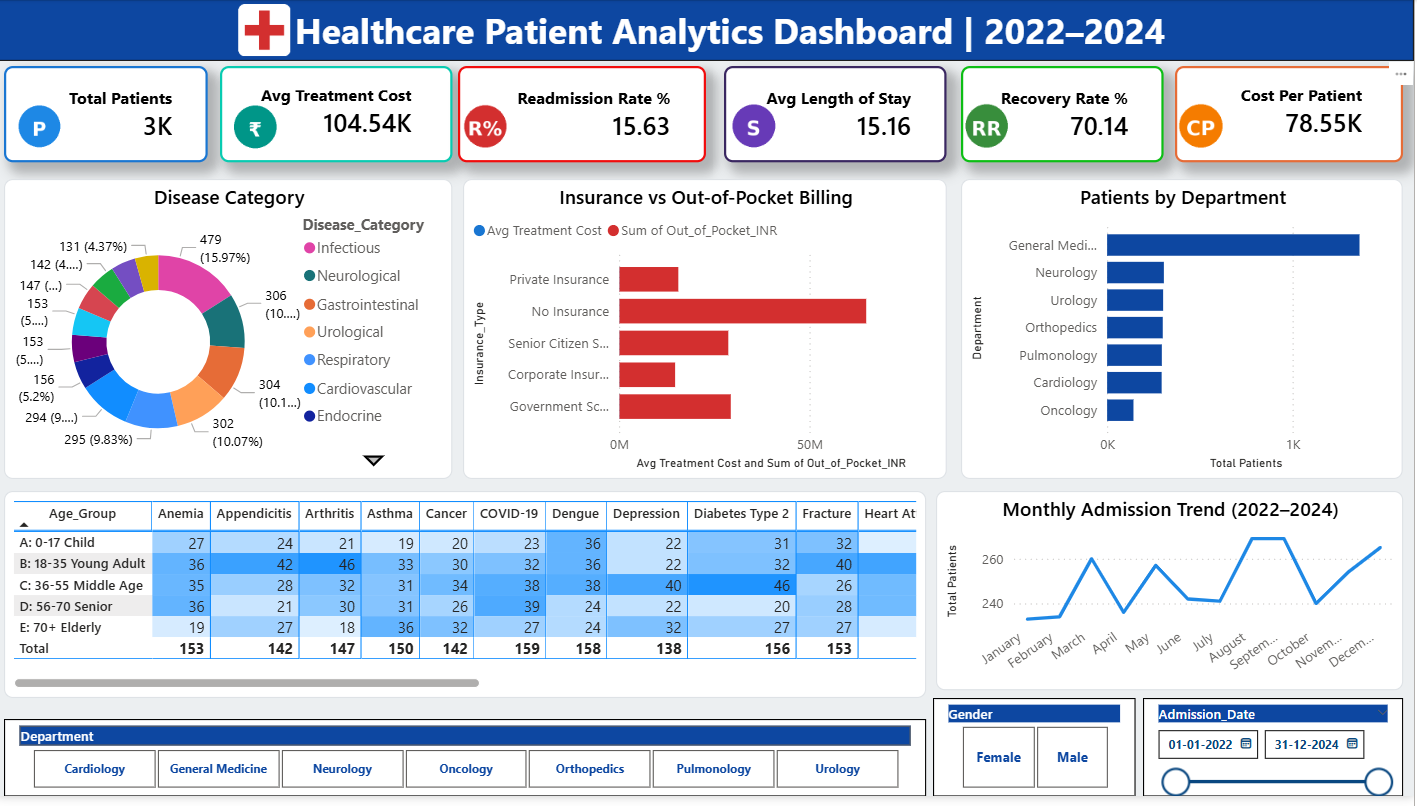

Layout of this report page (visuals, bound fields, positions):
{"tool":"powerbi","page":{"name":"KPI Overview","canvas":[1280,720],"ordinal":0},"visuals":[{"type":"cardVisual","fields":{"Data":["Patient_Raw_Data.Total Patients"]},"box":[6.3,60.5,184.3,86.7],"z":0},{"type":"cardVisual","fields":{"Data":["Patient_Raw_Data.Avg Treatment Cost"]},"box":[201.4,60.5,209.6,86.7],"z":1000},{"type":"cardVisual","fields":{"Data":["Patient_Raw_Data.Readmission Rate %"]},"box":[416.4,60.5,224,86.7],"z":2000},{"type":"cardVisual","fields":{"Data":["Patient_Raw_Data.Avg Length of Stay"]},"box":[656.7,60.5,201.4,86.7],"z":3000},{"type":"cardVisual","fields":{"Data":["Patient_Raw_Data.Recovery Rate %"]},"box":[870.8,60.5,183.4,86.7],"z":4000},{"type":"cardVisual","fields":{"Data":["Patient_Raw_Data.Cost Per Patient"]},"box":[1064.1,60.5,206,86.7],"z":5000},{"type":"textbox","box":[0,0,1280,56],"z":6000},{"type":"lineChart","title":"Monthly Admission Trend (2022–2024)","fields":{"Category":["Patient_Raw_Data.Admission_Date.Variation.Date Hierarchy.Month"],"Y":["Patient_Raw_Data.Total Patients"]},"box":[848.2,444.4,421.8,179.8],"z":7000},{"type":"donutChart","title":"Disease Category","fields":{"Category":["Patient_Raw_Data.Disease_Category"],"Y":["Patient_Raw_Data.Total Patients"]},"box":[6.3,162.6,404.7,271],"z":8000},{"type":"clusteredBarChart","title":"Patients by Department","fields":{"Y":["Patient_Raw_Data.Total Patients"],"Category":["Patient_Raw_Data.Department"]},"box":[870.8,162.6,399.3,271],"z":9000},{"type":"pivotTable","fields":{"Columns":["Patient_Raw_Data.Diagnosis"],"Values":["Patient_Raw_Data.Total Patients"],"Rows":["Patient_Raw_Data.Age_Group"]},"box":[6.3,444.4,832.9,187],"z":10000},{"type":"barChart","title":"Insurance vs Out-of-Pocket Billing","fields":{"Category":["Patient_Raw_Data.Insurance_Type"],"Y":["Patient_Raw_Data.Avg Treatment Cost","Sum(Patient_Raw_Data.Out_of_Pocket_INR)"]},"box":[420.9,162.6,437.2,271],"z":11000},{"type":"slicer","fields":{"Values":["Patient_Raw_Data.Department"]},"box":[6.3,650.4,832.9,69.6],"z":12000},{"type":"slicer","fields":{"Values":["Patient_Raw_Data.Gender"]},"box":[845.5,631.4,183.4,88.5],"z":13000},{"type":"slicer","fields":{"Values":["Patient_Raw_Data.Admission_Date"]},"box":[1035.2,631.4,234.9,88.5],"z":14000},{"type":"image","box":[420.9,94.8,39.7,39.7],"z":16000},{"type":"image","box":[870.8,93.9,46.1,40.6],"z":17000},{"type":"image","box":[1066.8,93.9,41.6,40.6],"z":18000},{"type":"image","box":[208.7,94.8,48.8,40.6],"z":20000},{"type":"image","box":[663,93.9,41.6,40.6],"z":21000},{"type":"image","box":[17.2,94.8,42.5,39.7],"z":21001},{"type":"image","box":[215.9,4.5,50.6,47],"z":21002}]}

Visuals, with their boxes in screenshot pixels (x1, y1, x2, y2), scaled from the page's 1280x720 canvas onto the 1417x806 screenshot:
cardVisual - Patient_Raw_Data.Total Patients: bbox=(7, 68, 211, 165)
cardVisual - Patient_Raw_Data.Avg Treatment Cost: bbox=(223, 68, 455, 165)
cardVisual - Patient_Raw_Data.Readmission Rate %: bbox=(461, 68, 709, 165)
cardVisual - Patient_Raw_Data.Avg Length of Stay: bbox=(727, 68, 950, 165)
cardVisual - Patient_Raw_Data.Recovery Rate %: bbox=(964, 68, 1167, 165)
cardVisual - Patient_Raw_Data.Cost Per Patient: bbox=(1178, 68, 1406, 165)
textbox: bbox=(0, 0, 1416, 63)
"Monthly Admission Trend (2022–2024)" lineChart: bbox=(939, 497, 1406, 699)
"Disease Category" donutChart: bbox=(7, 182, 455, 485)
"Patients by Department" clusteredBarChart: bbox=(964, 182, 1406, 485)
pivotTable - Patient_Raw_Data.Diagnosis x Patient_Raw_Data.Total Patients: bbox=(7, 497, 929, 707)
"Insurance vs Out-of-Pocket Billing" barChart: bbox=(466, 182, 950, 485)
slicer - Patient_Raw_Data.Department: bbox=(7, 728, 929, 805)
slicer - Patient_Raw_Data.Gender: bbox=(936, 707, 1139, 805)
slicer - Patient_Raw_Data.Admission_Date: bbox=(1146, 707, 1406, 805)
image: bbox=(466, 106, 510, 151)
image: bbox=(964, 105, 1015, 151)
image: bbox=(1181, 105, 1227, 151)
image: bbox=(231, 106, 285, 152)
image: bbox=(734, 105, 780, 151)
image: bbox=(19, 106, 66, 151)
image: bbox=(239, 5, 295, 58)
